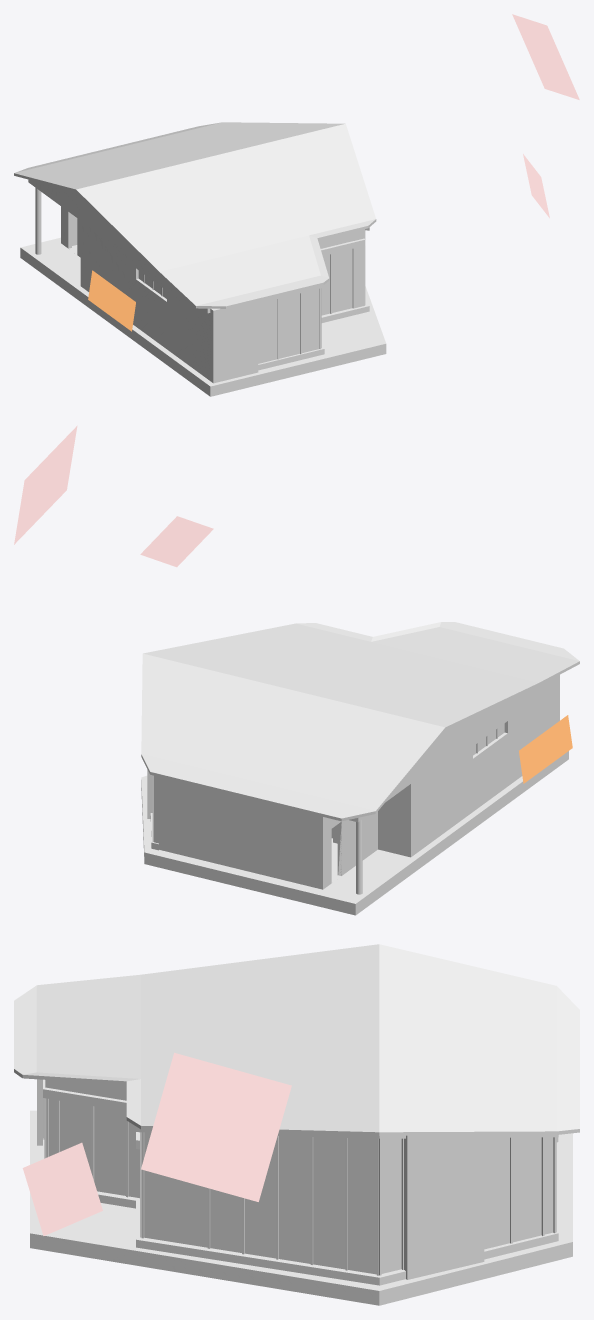
Rendered from fhouse.glb.
3 views of the same model, one above another, from view 1: azimuth 30°, elevation 25°; view 2: azimuth 150°, elevation 25°; view 3: azimuth 270°, elevation 25° (orthographic). The views are drawn at different scales.
Parts seen in each view (by area): view 1: Plane.004, Cube, Plane, Plane.002, Plane.007, Plane.028, Cube.005, Plane.033, Plane.003, Plane.029; view 2: Plane.004, Cube, Plane, Plane.028, Plane.007, Plane.029, Plane.033; view 3: Plane.004, Plane.002, Plane, Plane.028, Cube, Cube.005, Plane.003, Plane.029, Plane.007.
Boxes of the visible parts, <box> form: Plane.004: <box>14,122,376,308</box>; Cube: <box>35,187,258,383</box>; Plane: <box>20,237,386,396</box>; Plane.002: <box>258,229,364,363</box>; Plane.007: <box>28,179,353,313</box>; Plane.028: <box>512,14,579,99</box>; Cube.005: <box>258,227,369,370</box>; Plane.033: <box>88,270,135,331</box>; Plane.003: <box>277,229,365,359</box>; Plane.029: <box>523,154,549,218</box>; Plane.004: <box>141,622,579,821</box>; Cube: <box>147,675,559,894</box>; Plane: <box>141,751,568,915</box>; Plane.028: <box>14,425,77,544</box>; Plane.007: <box>349,675,558,822</box>; Plane.029: <box>140,516,213,567</box>; Plane.033: <box>519,715,572,783</box>; Plane.004: <box>14,944,579,1135</box>; Plane.002: <box>49,1099,553,1274</box>; Plane: <box>30,1110,572,1305</box>; Plane.028: <box>141,1052,291,1201</box>; Cube: <box>37,1079,556,1279</box>; Cube.005: <box>43,1079,558,1285</box>; Plane.003: <box>43,1098,556,1275</box>; Plane.029: <box>22,1142,102,1235</box>; Plane.007: <box>45,1080,558,1142</box>.
Bounding box in the file's own units: 87 × 43.83 × 65.55.
